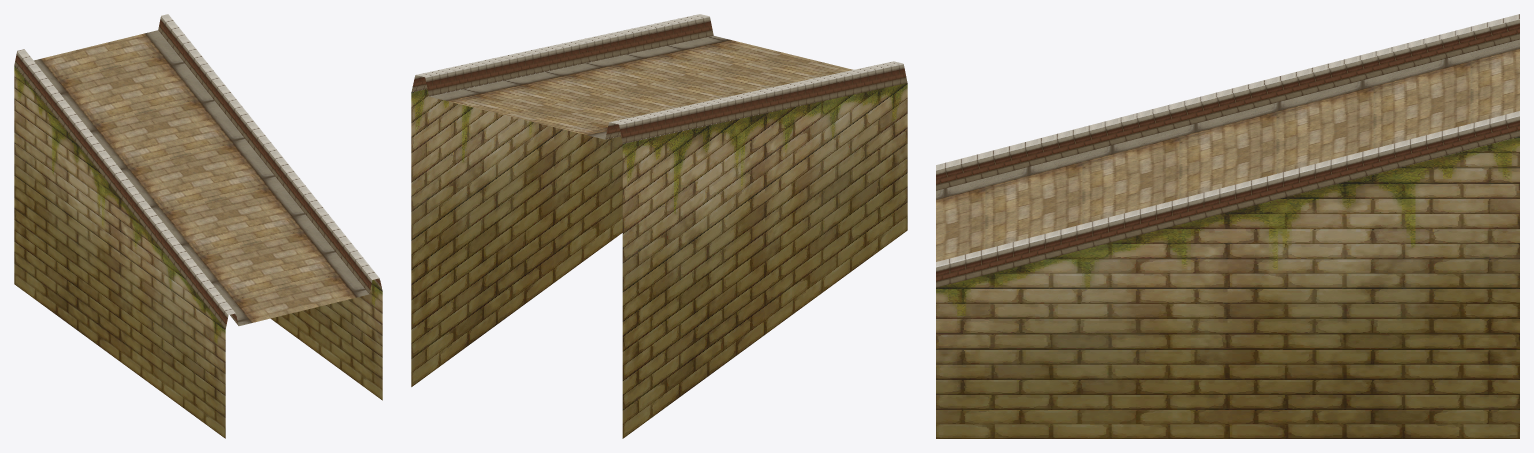
File: obj_masaslope03.glb
The picture shows the model from 3 angles, left to right: view 1: azimuth 30°, elevation 25°; view 2: azimuth 150°, elevation 25°; view 3: azimuth 270°, elevation 25°; orthographic projection. The views are drawn at different scales.
Visible parts, largest first — view 1: part_0; view 2: part_0; view 3: part_0.
Boxes of the visible parts, box(x1,y1,x2,y2) form: part_0: box(14, 14, 382, 438); part_0: box(411, 14, 907, 438); part_0: box(936, 14, 1519, 438).
Size of the model in its own units: 12 by 17 by 28.
3 materials, 3 textured.
